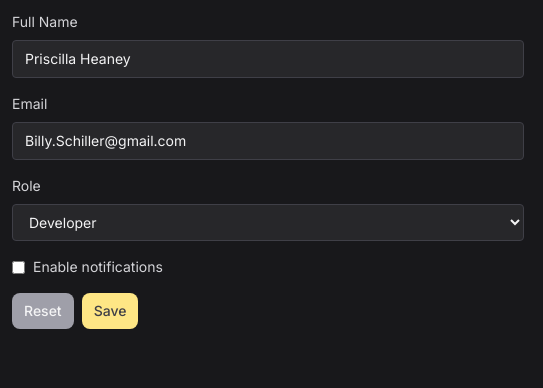
ProfileForm › shows success text on submit
Clear the field labelled "Full Name" at coordinates (268, 59), box [12,40,524,78]
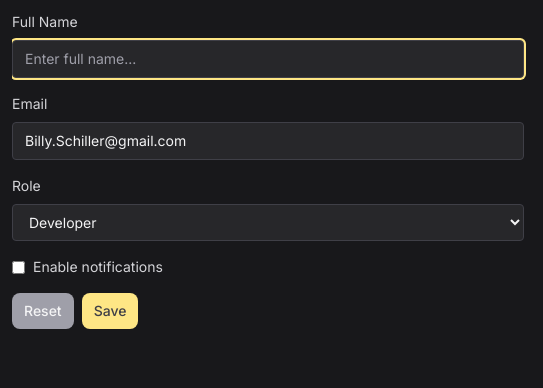
Clear the field labelled "Email" at coordinates (268, 141), box [12,122,524,160]
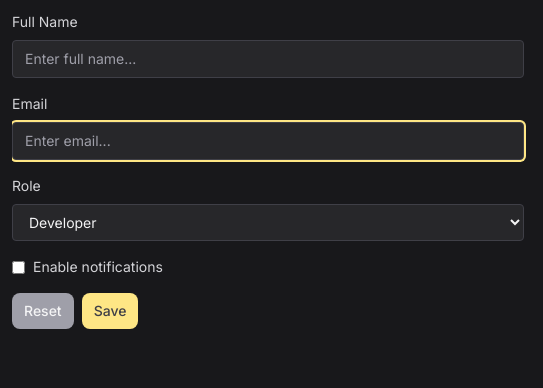
Type "Jane Doe" into the field labelled "Full Name".
click(268, 59); type("Jane Doe")  # box [12,40,524,78]
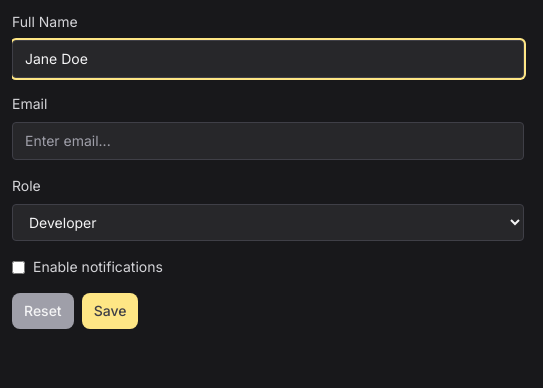
Type "example.test@gmail.com" into the field labelled "Email".
click(268, 141); type("example.test@gmail.com")  # box [12,122,524,160]
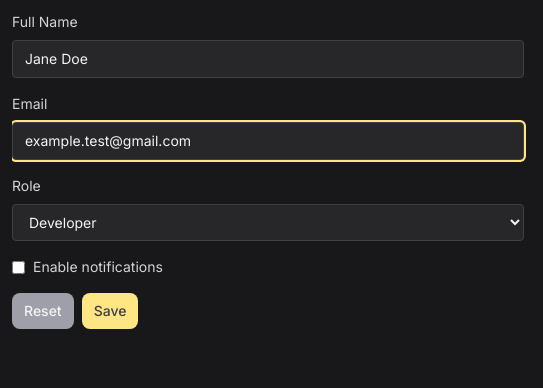
Select "Developer" in the dropdown labelled "Role" at coordinates (268, 222), box [12,204,524,241]
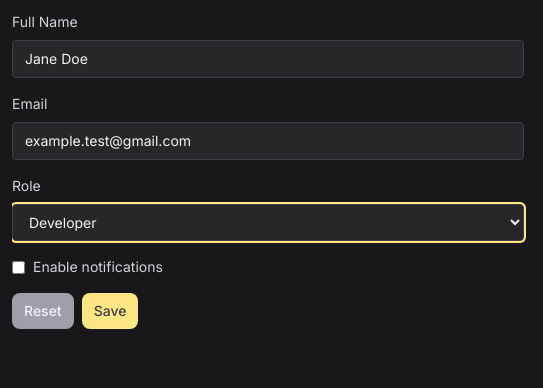
Click the button with test id "submit-button".
click(110, 311)  # box [82,293,138,329]
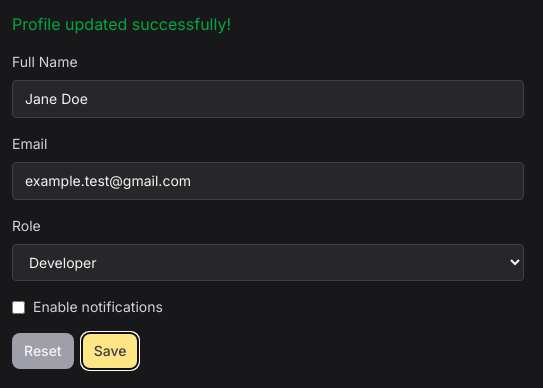
Now the text "Profile updated successfully!" is shown, box [12,14,231,34]
